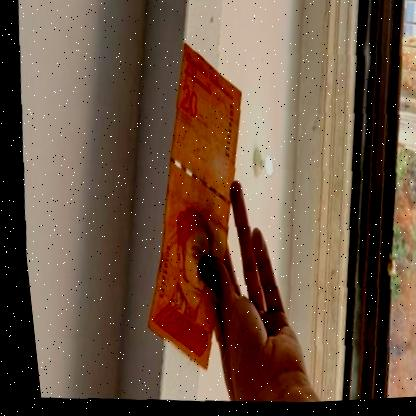vef_front: (112, 36, 266, 379)
